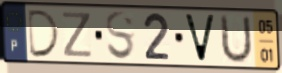2: (141, 10, 174, 64)
D: (27, 8, 63, 59)
S: (104, 9, 137, 63)
U: (219, 13, 254, 66)
V: (181, 12, 218, 65)
Z: (61, 10, 94, 60)
